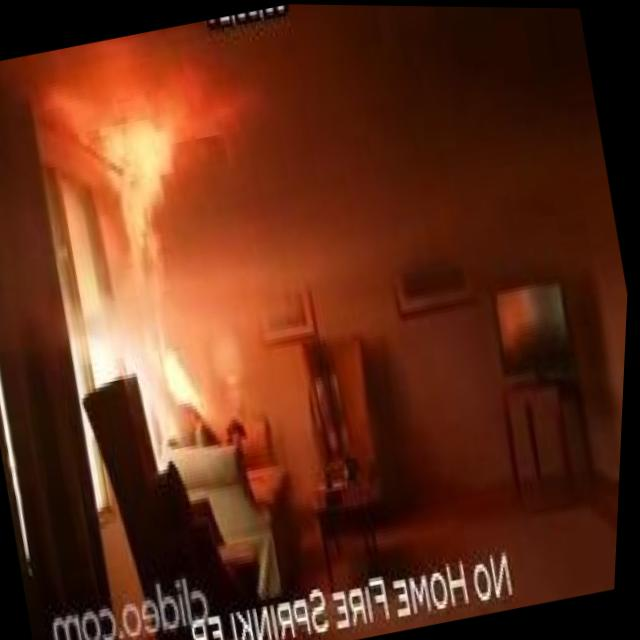fire: (79, 81, 240, 276), (159, 324, 212, 406)
